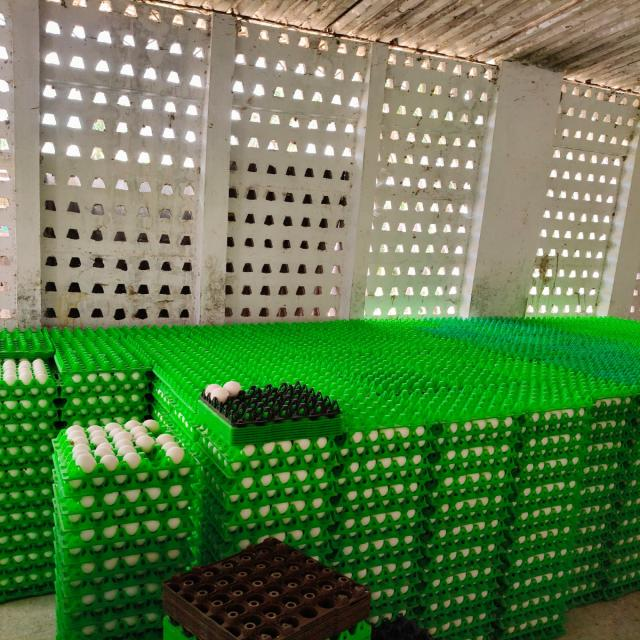egg_tray: (42, 0, 207, 325), (225, 25, 366, 321), (365, 52, 492, 318), (163, 539, 370, 640), (54, 447, 195, 541), (54, 420, 193, 512), (201, 451, 335, 539), (56, 503, 194, 588), (55, 516, 193, 594), (427, 418, 518, 530), (56, 516, 194, 589), (54, 420, 194, 490), (198, 381, 341, 447), (317, 366, 430, 445), (57, 518, 193, 583), (202, 474, 333, 540), (53, 471, 195, 530), (54, 472, 196, 529), (55, 508, 194, 563), (56, 560, 192, 613), (201, 381, 340, 432), (54, 332, 149, 406), (509, 441, 584, 532), (211, 474, 335, 529), (55, 543, 193, 592), (199, 429, 337, 478), (197, 430, 338, 477), (333, 535, 422, 608), (332, 493, 423, 563), (201, 402, 341, 447), (198, 516, 332, 563), (56, 581, 162, 640), (56, 582, 161, 640), (578, 418, 637, 521), (201, 468, 336, 512), (198, 517, 331, 561), (57, 567, 174, 616), (419, 380, 517, 438), (428, 416, 521, 476), (503, 519, 607, 572), (201, 408, 341, 446), (498, 566, 593, 622), (421, 388, 517, 443), (203, 466, 335, 506), (419, 539, 501, 603), (333, 469, 428, 524), (418, 526, 505, 586), (331, 526, 421, 584), (118, 325, 201, 387), (511, 466, 620, 513), (202, 502, 333, 541), (0, 506, 53, 602), (51, 329, 145, 383), (335, 451, 430, 503), (0, 441, 52, 536), (421, 512, 508, 568), (118, 324, 213, 375), (334, 462, 430, 512), (147, 341, 214, 412), (499, 561, 585, 616), (511, 452, 595, 508), (414, 584, 496, 640), (417, 526, 505, 578), (578, 491, 639, 566), (425, 470, 512, 522), (57, 597, 162, 640), (61, 370, 149, 421), (51, 328, 144, 376), (0, 439, 52, 523), (339, 556, 423, 608), (58, 598, 162, 640), (419, 538, 503, 590), (333, 469, 429, 514), (431, 416, 522, 463), (519, 414, 592, 472), (332, 523, 422, 570), (152, 351, 209, 424), (514, 443, 584, 501), (0, 380, 58, 446), (337, 414, 437, 452), (221, 436, 336, 468), (588, 496, 639, 568), (602, 464, 639, 563), (422, 554, 501, 600), (0, 360, 57, 423), (426, 467, 512, 508), (343, 563, 423, 607), (425, 496, 510, 537), (332, 528, 421, 567), (111, 324, 193, 366), (122, 324, 210, 363), (506, 518, 580, 564), (556, 527, 637, 568), (148, 378, 199, 443), (428, 415, 522, 450), (337, 426, 435, 459), (151, 378, 199, 445), (123, 324, 201, 364), (334, 500, 425, 534), (60, 390, 148, 425), (493, 598, 565, 640), (61, 372, 148, 406), (0, 546, 53, 601), (508, 490, 582, 528), (582, 418, 637, 469), (153, 358, 201, 415), (0, 439, 52, 490), (254, 528, 332, 562), (0, 529, 54, 578), (61, 368, 149, 398), (427, 415, 518, 444), (500, 564, 570, 601), (363, 580, 420, 624), (0, 434, 53, 481), (567, 566, 626, 607), (337, 556, 416, 586), (61, 393, 148, 420), (0, 358, 57, 399), (338, 452, 431, 477), (565, 557, 612, 606), (0, 560, 54, 602), (602, 510, 639, 570), (485, 612, 564, 640), (418, 611, 494, 640), (0, 508, 53, 548), (367, 583, 420, 623), (188, 495, 220, 561), (270, 530, 333, 563), (195, 518, 241, 563), (196, 519, 241, 563), (0, 473, 52, 511), (0, 539, 53, 575), (66, 405, 148, 427), (365, 598, 414, 634), (0, 499, 53, 532), (0, 416, 57, 446), (429, 614, 494, 640), (0, 328, 54, 358), (370, 615, 433, 640), (366, 598, 415, 628), (523, 406, 594, 425), (292, 541, 337, 570), (604, 565, 639, 599), (590, 396, 639, 420), (602, 571, 639, 600), (202, 380, 241, 406), (623, 438, 639, 492), (183, 366, 215, 392), (331, 620, 371, 640), (329, 621, 371, 640), (259, 440, 312, 455), (163, 616, 195, 640), (183, 370, 209, 392), (203, 466, 230, 484), (540, 624, 563, 640), (194, 354, 214, 369), (401, 630, 431, 640), (595, 568, 605, 588), (277, 472, 290, 486), (306, 468, 328, 476), (602, 399, 617, 408), (278, 471, 293, 480), (150, 488, 162, 499), (359, 398, 368, 410), (362, 483, 372, 493), (336, 496, 345, 507), (249, 536, 265, 542), (198, 377, 207, 387), (134, 449, 145, 457), (379, 359, 391, 366), (229, 542, 239, 550), (194, 17, 206, 23), (239, 541, 249, 548), (323, 363, 333, 370), (379, 636, 396, 640), (633, 498, 639, 509), (0, 448, 16, 452), (570, 599, 577, 608), (194, 484, 200, 494), (333, 540, 345, 545), (116, 376, 125, 382), (531, 633, 538, 640), (403, 537, 410, 544), (196, 356, 203, 363), (95, 462, 103, 468), (319, 439, 327, 445), (108, 532, 115, 538), (129, 531, 135, 538), (206, 361, 212, 368), (633, 421, 639, 428), (421, 621, 427, 627), (32, 591, 41, 595), (69, 507, 76, 512), (324, 522, 331, 527), (586, 598, 593, 603), (170, 524, 177, 529), (107, 458, 112, 465), (495, 543, 499, 551), (41, 15, 45, 23), (203, 472, 206, 482), (283, 538, 289, 543), (432, 457, 438, 462), (145, 9, 151, 14), (14, 383, 21, 387), (277, 478, 281, 485), (17, 533, 21, 540), (241, 541, 245, 548), (447, 561, 455, 564), (615, 398, 621, 402), (578, 526, 582, 532), (374, 562, 380, 566), (181, 336, 187, 340), (5, 580, 9, 586), (388, 629, 395, 632), (236, 450, 243, 453), (601, 477, 605, 482), (604, 470, 608, 475), (173, 494, 178, 498), (202, 382, 207, 386), (245, 541, 250, 545), (596, 401, 600, 406), (87, 530, 92, 534), (342, 487, 346, 492), (45, 588, 50, 592), (222, 376, 227, 380), (476, 453, 481, 457), (542, 437, 548, 440), (111, 550, 117, 553), (125, 522, 134, 524), (414, 608, 420, 611), (378, 485, 384, 488), (292, 476, 295, 482), (28, 444, 32, 448), (190, 346, 198, 348), (105, 564, 109, 568), (401, 627, 409, 629), (361, 48, 365, 52), (634, 444, 638, 448), (165, 571, 170, 574), (121, 531, 124, 536), (71, 480, 76, 483), (116, 528, 121, 531), (114, 330, 119, 333), (320, 469, 324, 472), (127, 494, 133, 496), (594, 536, 597, 540), (167, 440, 173, 442), (388, 563, 394, 565), (165, 406, 169, 409), (176, 336, 180, 339), (402, 611, 406, 614), (0, 587, 3, 591), (250, 458, 253, 462), (310, 470, 315, 472), (148, 558, 153, 560), (470, 574, 473, 577), (584, 570, 587, 573), (202, 354, 205, 357), (247, 541, 250, 544), (327, 523, 330, 526), (481, 520, 485, 522), (372, 364, 376, 366), (61, 542, 63, 546), (119, 400, 123, 402), (473, 638, 477, 640), (208, 368, 210, 372), (452, 382, 455, 384), (493, 522, 496, 524), (157, 532, 159, 535), (188, 462, 191, 464), (162, 452, 165, 454), (135, 399, 138, 401), (587, 500, 589, 503), (225, 469, 228, 471), (321, 447, 323, 450), (113, 330, 116, 332), (0, 448, 2, 450), (20, 444, 22, 446), (481, 520, 485, 521), (586, 478, 588, 480), (594, 474, 598, 475), (477, 382, 479, 384), (99, 458, 101, 460), (632, 589, 636, 590), (297, 537, 299, 539), (203, 364, 205, 366), (154, 354, 156, 356), (364, 584, 366, 586), (226, 467, 228, 469), (203, 458, 205, 460), (325, 433, 329, 434), (179, 15, 181, 17), (586, 470, 587, 473), (337, 338, 340, 339), (375, 338, 378, 339), (122, 529, 125, 530), (278, 485, 281, 486), (183, 338, 186, 339), (388, 478, 391, 479), (390, 610, 393, 611), (189, 363, 192, 364), (480, 520, 481, 522), (203, 378, 205, 379), (31, 398, 33, 399), (540, 551, 542, 552), (107, 531, 109, 532), (152, 527, 154, 528), (536, 638, 537, 640), (531, 638, 532, 640), (552, 636, 554, 637), (70, 525, 72, 526), (157, 356, 159, 357), (621, 456, 622, 458), (9, 542, 11, 543), (244, 447, 246, 448), (282, 438, 284, 439), (548, 412, 550, 413), (578, 561, 580, 562), (294, 538, 295, 539), (622, 474, 623, 475), (34, 478, 35, 479), (114, 381, 115, 382), (594, 527, 595, 528), (72, 460, 73, 461), (543, 636, 544, 637), (416, 496, 417, 497), (154, 381, 155, 382), (598, 585, 599, 586), (465, 587, 466, 588), (467, 543, 468, 544), (83, 376, 84, 377), (336, 422, 337, 423), (589, 481, 590, 481), (290, 508, 290, 508), (225, 410, 225, 410), (291, 488, 292, 488), (212, 478, 212, 479), (556, 592, 557, 592), (530, 441, 530, 441), (27, 454, 28, 454), (12, 390, 12, 390), (450, 555, 450, 556), (603, 576, 603, 576), (207, 374, 207, 377), (398, 452, 399, 452), (169, 423, 170, 423), (494, 547, 494, 548), (5, 400, 5, 401), (577, 605, 580, 605), (629, 501, 630, 501), (183, 461, 183, 461), (130, 529, 130, 530), (302, 481, 303, 481), (323, 478, 323, 479), (614, 512, 614, 513), (130, 565, 132, 565), (404, 612, 406, 612), (389, 474, 391, 474), (576, 603, 577, 603), (182, 356, 186, 356), (202, 332, 203, 332), (490, 72, 490, 72), (263, 454, 264, 454), (288, 438, 293, 438), (365, 72, 365, 75), (612, 523, 612, 524), (614, 521, 614, 521), (117, 330, 119, 330), (194, 229, 194, 231)
